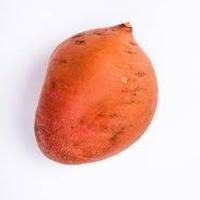biodegradable: (33, 21, 160, 166)
